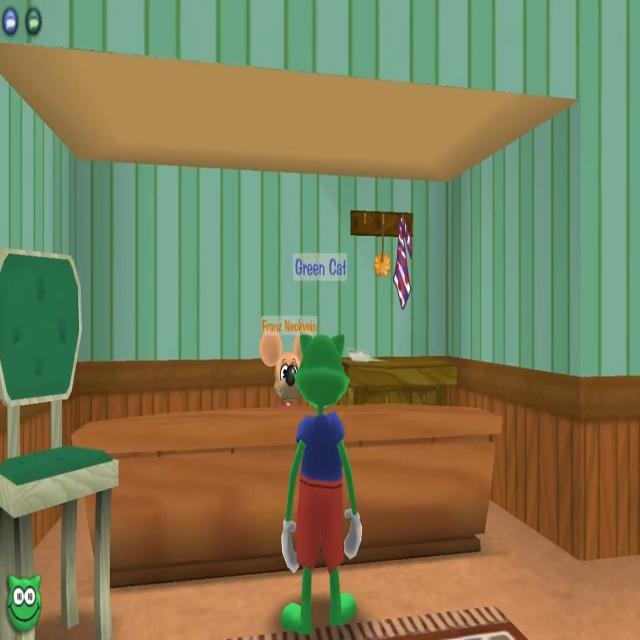npc: (260, 325, 302, 405)
